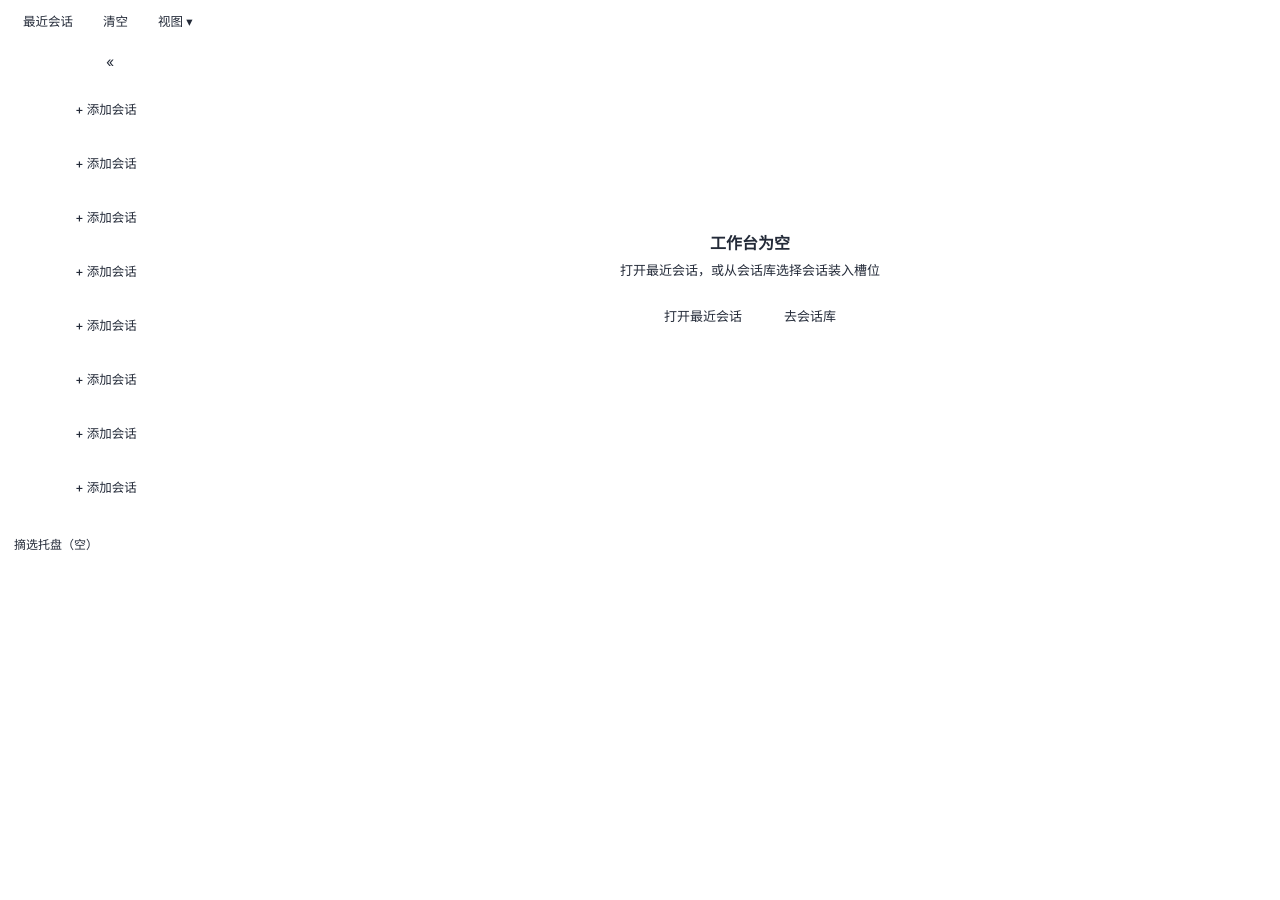
Scenario: WorkspaceView (t224) › 会话选择弹窗：点空槽打开、点会话装入目标槽位
This screenshot has width=1280, height=900.
Click the button with aria-label "槽位 1（空）".
click(110, 111)  # box [8,87,212,135]
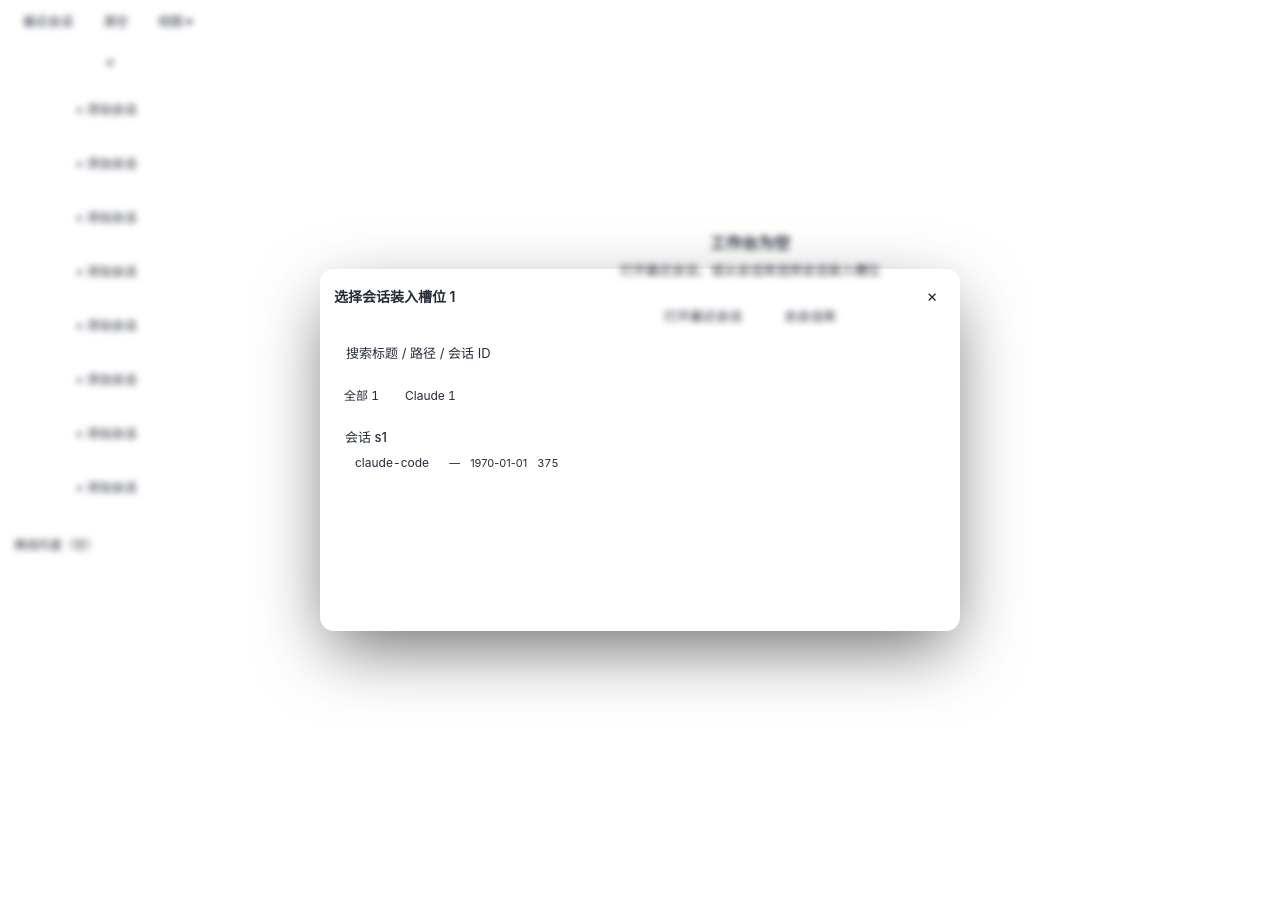
Check: the dialog "选择会话" is shown, box [320,269,960,631]
Click the text "会话 s1".
click(366, 438)  # box [345,428,387,447]
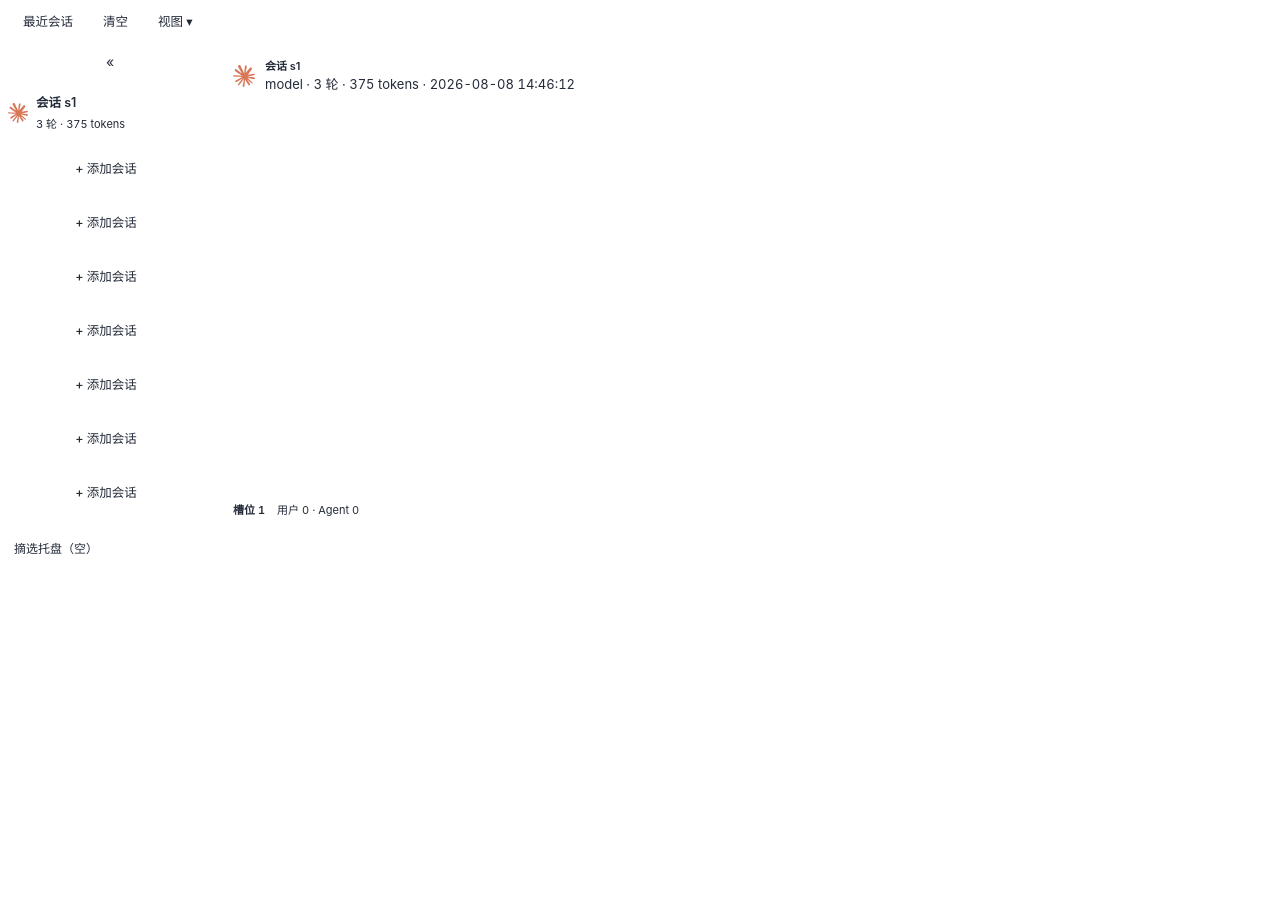
Check: the number of elements with class "rail-title" is 1, box [36,95,76,110]
